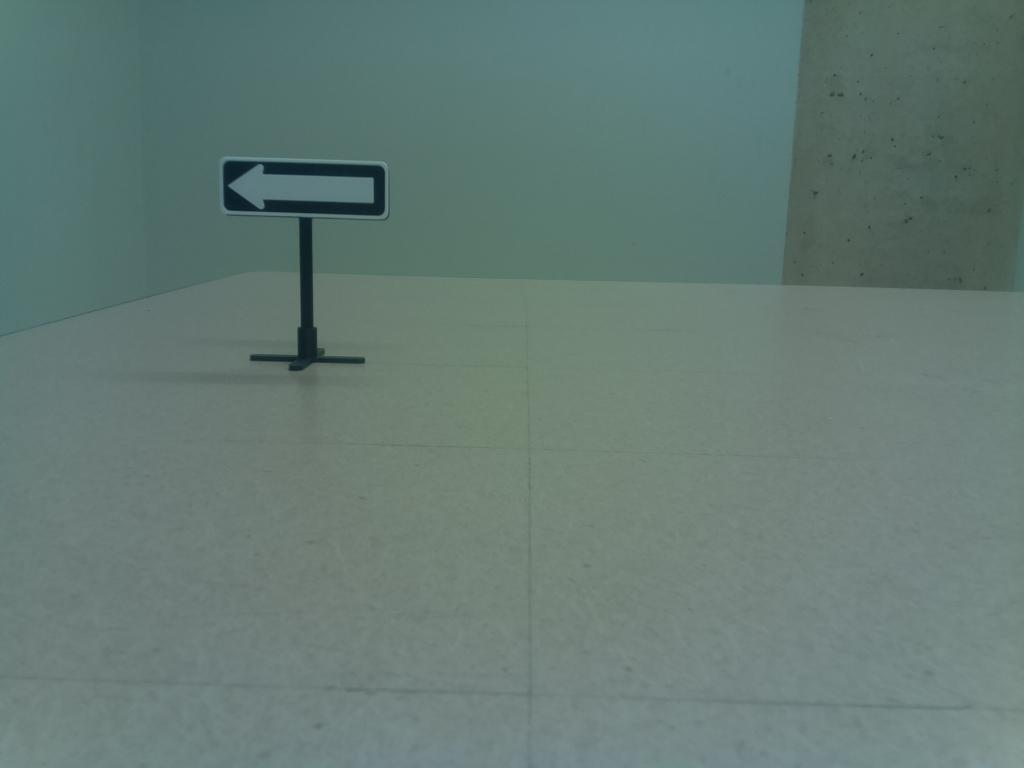sign_oneway_left: (213, 149, 397, 227)
